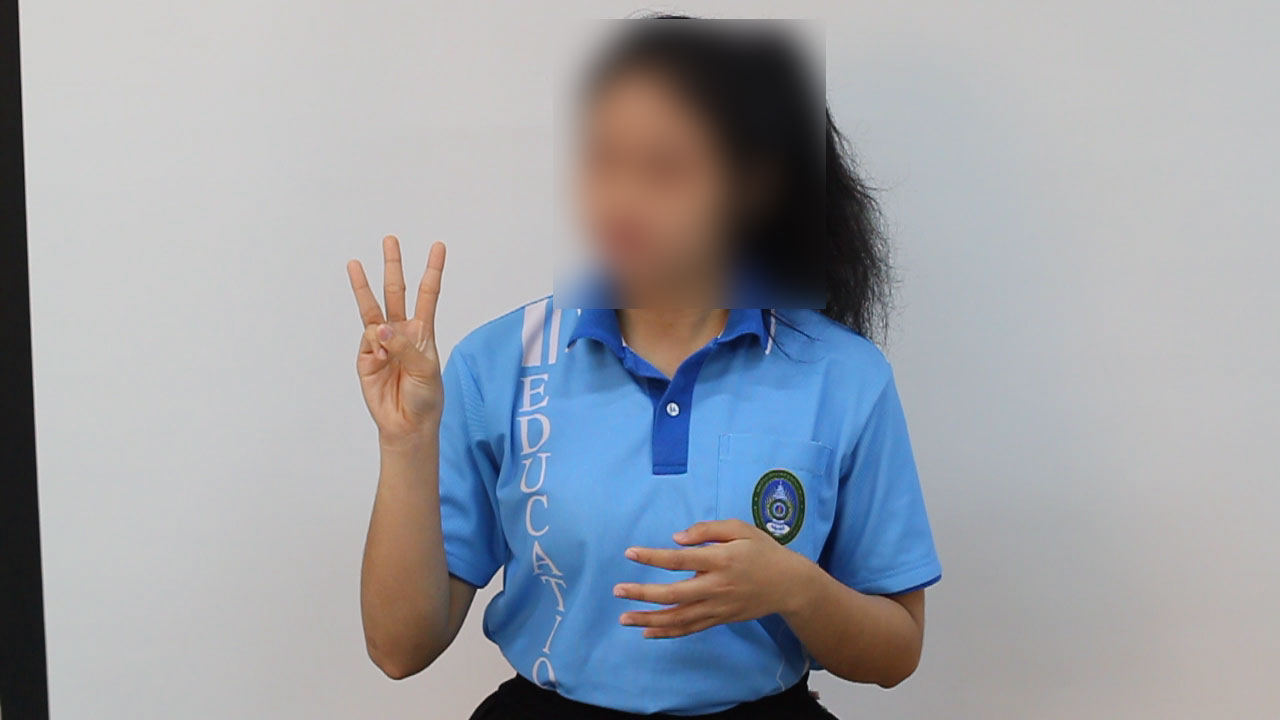wor: (340, 223, 462, 451)
